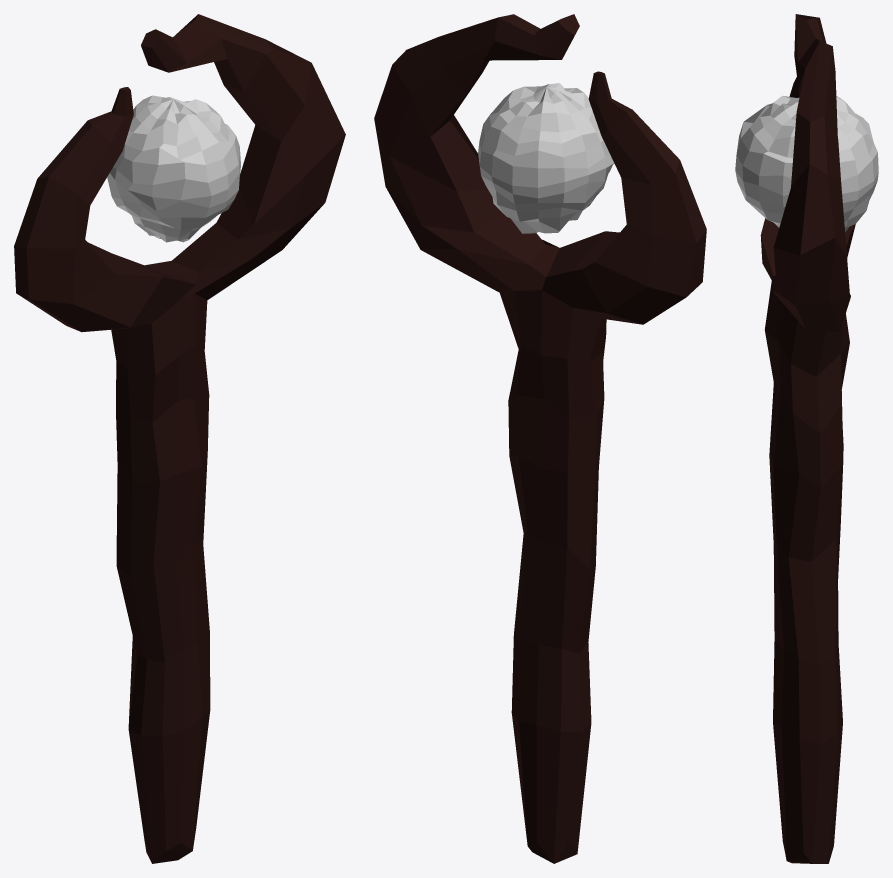
The model's file is wand.obj.
3 views of the same model, side by side, from view 1: azimuth 30°, elevation 25°; view 2: azimuth 150°, elevation 25°; view 3: azimuth 270°, elevation 25° (orthographic).
Visible parts, largest first — view 1: Cylinder, Sphere_Sphere.001; view 2: Cylinder, Sphere_Sphere.001; view 3: Cylinder, Sphere_Sphere.001.
Boxes of the visible parts, bbox=[...] form: Cylinder: bbox=[14, 14, 345, 863]; Sphere_Sphere.001: bbox=[107, 95, 240, 242]; Cylinder: bbox=[374, 14, 706, 863]; Sphere_Sphere.001: bbox=[478, 83, 614, 233]; Cylinder: bbox=[760, 14, 855, 863]; Sphere_Sphere.001: bbox=[735, 95, 878, 232].
Bounding box in the file's own units: 3.69 × 9.09 × 1.4.
